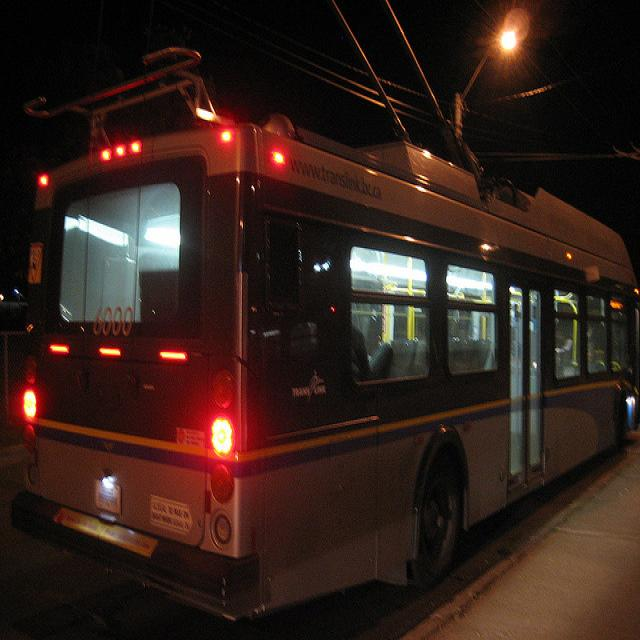Bus: (0, 33, 640, 640)
